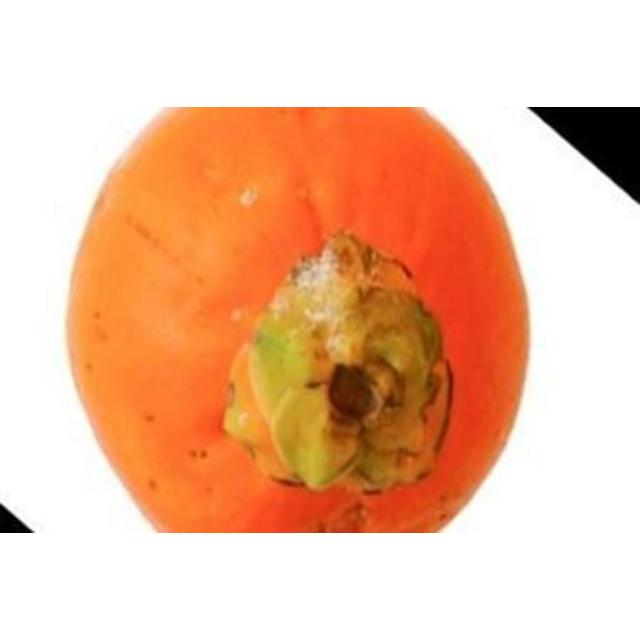good: (63, 107, 536, 532)
